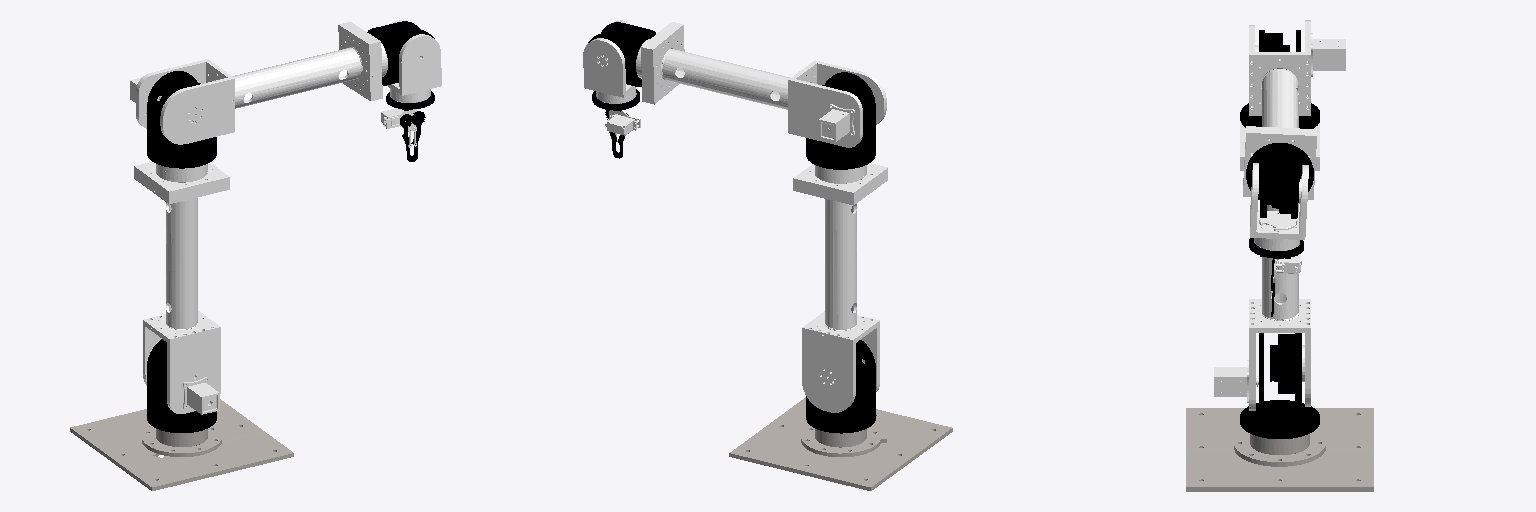
The robot description file, URDF, robot "final_7dof_urdf_9oct2024":
<?xml version="1.0" encoding="utf-8"?>
<!-- This URDF was automatically created by SolidWorks to URDF Exporter! Originally created by [author] ([email redacted]) 
     Commit Version: 1.6.0-4-g7f85cfe  Build Version: 1.6.7995.38578
     For more information, please see http://wiki.ros.org/sw_urdf_exporter -->
<robot
  name="final_7dof_urdf_9oct2024">
  <link
    name="base_link">
    <inertial>
      <origin
        xyz="0.00049737 0.00026123 0.0072038"
        rpy="0 0 0" />
      <mass
        value="6.9112" />
      <inertia
        ixx="0.046617"
        ixy="0.00010077"
        ixz="5.1488E-08"
        iyy="0.046482"
        iyz="-1.4461E-07"
        izz="0.092984" />
    </inertial>
    <visual>
      <origin
        xyz="0 0 0"
        rpy="0 0 0" />
      <geometry>
        <mesh
          filename="package://final_7dof_urdf_9oct2024/meshes/base_link.STL" />
      </geometry>
      <material
        name="">
        <color
          rgba="0.77647 0.75686 0.73725 1" />
      </material>
    </visual>
    <collision>
      <origin
        xyz="0 0 0"
        rpy="0 0 0" />
      <geometry>
        <mesh
          filename="package://final_7dof_urdf_9oct2024/meshes/base_link.STL" />
      </geometry>
    </collision>
  </link>
  <link
    name="Link_1">
    <inertial>
      <origin
        xyz="1.4551E-05 -0.0043711 0.069929"
        rpy="0 0 0" />
      <mass
        value="1.4053" />
      <inertia
        ixx="0.0017174"
        ixy="6.6784E-08"
        ixz="3.5551E-07"
        iyy="0.002626"
        iyz="6.0024E-06"
        izz="0.0017063" />
    </inertial>
    <visual>
      <origin
        xyz="0 0 0"
        rpy="0 0 0" />
      <geometry>
        <mesh
          filename="package://final_7dof_urdf_9oct2024/meshes/Link_1.STL" />
      </geometry>
      <material
        name="">
        <color
          rgba="0 0 0 1" />
      </material>
    </visual>
    <collision>
      <origin
        xyz="0 0 0"
        rpy="0 0 0" />
      <geometry>
        <mesh
          filename="package://final_7dof_urdf_9oct2024/meshes/Link_1.STL" />
      </geometry>
    </collision>
  </link>
  <joint
    name="joint_1"
    type="continuous">
    <origin
      xyz="0 0 0.05"
      rpy="0 0 3.1416" />
    <parent
      link="base_link" />
    <child
      link="Link_1" />
    <axis
      xyz="0 0 -1" />
    <limit
      lower="0"
      upper="3.14"
      effort="0"
      velocity="0" />
  </joint>
  <link
    name="Link_2">
    <inertial>
      <origin
        xyz="-6.5548E-05 0.21409 0.034291"
        rpy="0 0 0" />
      <mass
        value="3.4329" />
      <inertia
        ixx="0.0091312"
        ixy="-2.4753E-06"
        ixz="8.4256E-07"
        iyy="0.0057112"
        iyz="5.0607E-06"
        izz="0.0099035" />
    </inertial>
    <visual>
      <origin
        xyz="0 0 0"
        rpy="0 0 0" />
      <geometry>
        <mesh
          filename="package://final_7dof_urdf_9oct2024/meshes/Link_2.STL" />
      </geometry>
      <material
        name="">
        <color
          rgba="1 1 1 1" />
      </material>
    </visual>
    <collision>
      <origin
        xyz="0 0 0"
        rpy="0 0 0" />
      <geometry>
        <mesh
          filename="package://final_7dof_urdf_9oct2024/meshes/Link_2.STL" />
      </geometry>
    </collision>
  </link>
  <joint
    name="Joint_2"
    type="revolute">
    <origin
      xyz="0 -0.02999999999948 0.107500000000395"
      rpy="1.5707963267949 0 -3.14159265358979" />
    <parent
      link="Link_1" />
    <child
      link="Link_2" />
    <axis
      xyz="0 0 -1" />
    <limit
      lower="-1.9199"
      upper="1.9199"
      effort="0"
      velocity="0" />
  </joint>
  <link
    name="Link_3">
    <inertial>
      <origin
        xyz="-2.1655E-05 0.0044003 0.0672"
        rpy="0 0 0" />
      <mass
        value="1.3788" />
      <inertia
        ixx="0.0016215"
        ixy="-9.275E-08"
        ixz="2.8899E-07"
        iyy="0.0025027"
        iyz="-5.4475E-06"
        izz="0.0016785" />
    </inertial>
    <visual>
      <origin
        xyz="0 0 0"
        rpy="0 0 0" />
      <geometry>
        <mesh
          filename="package://final_7dof_urdf_9oct2024/meshes/Link_3.STL" />
      </geometry>
      <material
        name="">
        <color
          rgba="0 0 0 1" />
      </material>
    </visual>
    <collision>
      <origin
        xyz="0 0 0"
        rpy="0 0 0" />
      <geometry>
        <mesh
          filename="package://final_7dof_urdf_9oct2024/meshes/Link_3.STL" />
      </geometry>
    </collision>
  </link>
  <joint
    name="Joint_3"
    type="continuous">
    <origin
      xyz="0.000359289684152012 0.435033961918617 0.0294474762975983"
      rpy="1.57079632680726 0 3.14159265358979" />
    <parent
      link="Link_2" />
    <child
      link="Link_3" />
    <axis
      xyz="0 0 -1" />
    <limit
      lower="0"
      upper="3.14"
      effort="0"
      velocity="0" />
  </joint>
  <link
    name="Link_4">
    <inertial>
      <origin
        xyz="0.22054 0.00021752 -0.034312"
        rpy="0 0 0" />
      <mass
        value="3.5515" />
      <inertia
        ixx="0.0043885"
        ixy="2.6288E-06"
        ixz="-3.6827E-06"
        iyy="0.0083524"
        iyz="-3.8569E-06"
        izz="0.0091315" />
    </inertial>
    <visual>
      <origin
        xyz="0 0 0"
        rpy="0 0 0" />
      <geometry>
        <mesh
          filename="package://final_7dof_urdf_9oct2024/meshes/Link_4.STL" />
      </geometry>
      <material
        name="">
        <color
          rgba="1 1 1 1" />
      </material>
    </visual>
    <collision>
      <origin
        xyz="0 0 0"
        rpy="0 0 0" />
      <geometry>
        <mesh
          filename="package://final_7dof_urdf_9oct2024/meshes/Link_4.STL" />
      </geometry>
    </collision>
  </link>
  <joint
    name="joint_4"
    type="revolute">
    <origin
      xyz="0 0.0299999999999995 0.102500000000001"
      rpy="1.5707963267949 0 3.14159265358979" />
    <parent
      link="Link_3" />
    <child
      link="Link_4" />
    <axis
      xyz="0 0 1" />
    <limit
      lower="-0.2618"
      upper="3.4907"
      effort="0"
      velocity="0" />
  </joint>
  <link
    name="Link_5">
    <inertial>
      <origin
        xyz="0.0058409 -0.0002627 0.054755"
        rpy="0 0 0" />
      <mass
        value="1.4559" />
      <inertia
        ixx="0.0013388"
        ixy="-2.389E-05"
        ixz="-1.7038E-06"
        iyy="0.00084376"
        iyz="-2.3795E-07"
        izz="0.0009966" />
    </inertial>
    <visual>
      <origin
        xyz="0 0 0"
        rpy="0 0 0" />
      <geometry>
        <mesh
          filename="package://final_7dof_urdf_9oct2024/meshes/Link_5.STL" />
      </geometry>
      <material
        name="">
        <color
          rgba="0 0 0 1" />
      </material>
    </visual>
    <collision>
      <origin
        xyz="0 0 0"
        rpy="0 0 0" />
      <geometry>
        <mesh
          filename="package://final_7dof_urdf_9oct2024/meshes/Link_5.STL" />
      </geometry>
    </collision>
  </link>
  <joint
    name="joint_5"
    type="continuous">
    <origin
      xyz="0.419299903678905 0 -0.0294999999999992"
      rpy="0 1.5707963267949 0" />
    <parent
      link="Link_4" />
    <child
      link="Link_5" />
    <axis
      xyz="0 0 -1" />
    <limit
      lower="0"
      upper="3.14"
      effort="0"
      velocity="0" />
  </joint>
  <link
    name="link_6">
    <inertial>
      <origin
        xyz="0.00011175 -0.056394 -0.023876"
        rpy="0 0 0" />
      <mass
        value="1.4077" />
      <inertia
        ixx="0.00078211"
        ixy="-9.9306E-07"
        ixz="3.1036E-06"
        iyy="0.0010474"
        iyz="1.657E-06"
        izz="0.00099212" />
    </inertial>
    <visual>
      <origin
        xyz="0 0 0"
        rpy="0 0 0" />
      <geometry>
        <mesh
          filename="package://final_7dof_urdf_9oct2024/meshes/link_6.STL" />
      </geometry>
      <material
        name="">
        <color
          rgba="1 1 1 1" />
      </material>
    </visual>
    <collision>
      <origin
        xyz="0 0 0"
        rpy="0 0 0" />
      <geometry>
        <mesh
          filename="package://final_7dof_urdf_9oct2024/meshes/link_6.STL" />
      </geometry>
    </collision>
  </link>
  <joint
    name="joint_6"
    type="revolute">
    <origin
      xyz="0.0239691789943203 -0.00121612576549357 0.0675000000000011"
      rpy="0.0506935943659278 1.5707963267949 0" />
    <parent
      link="Link_5" />
    <child
      link="link_6" />
    <axis
      xyz="0 0 1" />
    <limit
      lower="-3.14"
      upper="0"
      effort="0"
      velocity="0" />
  </joint>
  <link
    name="Link_7">
    <inertial>
      <origin
        xyz="8.2711E-06 3.9121E-07 0.0087604"
        rpy="0 0 0" />
      <mass
        value="0.18439" />
      <inertia
        ixx="8.0523E-05"
        ixy="-8.9234E-11"
        ixz="-4.712E-11"
        iyy="8.0525E-05"
        iyz="-2.2287E-12"
        izz="0.00015908" />
    </inertial>
    <visual>
      <origin
        xyz="0 0 0"
        rpy="0 0 0" />
      <geometry>
        <mesh
          filename="package://final_7dof_urdf_9oct2024/meshes/Link_7.STL" />
      </geometry>
      <material
        name="">
        <color
          rgba="0 0 0 1" />
      </material>
    </visual>
    <collision>
      <origin
        xyz="0 0 0"
        rpy="0 0 0" />
      <geometry>
        <mesh
          filename="package://final_7dof_urdf_9oct2024/meshes/Link_7.STL" />
      </geometry>
    </collision>
  </link>
  <joint
    name="Joint_7"
    type="continuous">
    <origin
      xyz="0 -0.0909999036788988 -0.0244999999999991"
      rpy="-1.5707963267949 0 3.14159265358979" />
    <parent
      link="link_6" />
    <child
      link="Link_7" />
    <axis
      xyz="0 0 -1" />
    <limit
      lower="0"
      upper="3.14"
      effort="0"
      velocity="0" />
  </joint>
  <link
    name="endeffector">
    <inertial>
      <origin
        xyz="-0.0198 -0.019334 0.047383"
        rpy="0 0 0" />
      <mass
        value="0.10291" />
      <inertia
        ixx="1.41E-05"
        ixy="-4.3343E-07"
        ixz="-9.812E-08"
        iyy="2.056E-05"
        iyz="-4.6453E-09"
        izz="2.527E-05" />
    </inertial>
    <visual>
      <origin
        xyz="0 0 0"
        rpy="0 0 0" />
      <geometry>
        <mesh
          filename="package://final_7dof_urdf_9oct2024/meshes/endeffector.STL" />
      </geometry>
      <material
        name="">
        <color
          rgba="1 1 1 1" />
      </material>
    </visual>
    <collision>
      <origin
        xyz="0 0 0"
        rpy="0 0 0" />
      <geometry>
        <mesh
          filename="package://final_7dof_urdf_9oct2024/meshes/endeffector.STL" />
      </geometry>
    </collision>
  </link>
  <joint
    name="endeffector"
    type="fixed">
    <origin
      xyz="0 0 0"
      rpy="0 0 0" />
    <parent
      link="Link_7" />
    <child
      link="endeffector" />
    <axis
      xyz="0 0 0" />
  </joint>
  <link
    name="gear1">
    <inertial>
      <origin
        xyz="0.00049542 -0.0057094 0.0018167"
        rpy="0 0 0" />
      <mass
        value="0.0053" />
      <inertia
        ixx="7.5591E-07"
        ixy="-2.1833E-08"
        ixz="-6.9871E-09"
        iyy="1.8107E-07"
        iyz="3.6804E-08"
        izz="9.2464E-07" />
    </inertial>
    <visual>
      <origin
        xyz="0 0 0"
        rpy="0 0 0" />
      <geometry>
        <mesh
          filename="package://final_7dof_urdf_9oct2024/meshes/gear1.STL" />
      </geometry>
      <material
        name="">
        <color
          rgba="0 0 0 1" />
      </material>
    </visual>
    <collision>
      <origin
        xyz="0 0 0"
        rpy="0 0 0" />
      <geometry>
        <mesh
          filename="package://final_7dof_urdf_9oct2024/meshes/gear1.STL" />
      </geometry>
    </collision>
  </link>
  <joint
    name="gear1_joint"
    type="revolute">
    <origin
      xyz="-0.0136030394768413 0.00185938617586617 0.0481789689084899"
      rpy="-1.52010273242897 0 0" />
    <parent
      link="endeffector" />
    <child
      link="gear1" />
    <axis
      xyz="-0.0472460759822869 0.0506152984712181 0.997600070100712" />
    <limit
      lower="-0.9"
      upper="0"
      effort="0"
      velocity="0" />
  </joint>
  <link
    name="gear1_claw">
    <inertial>
      <origin
        xyz="0.0054214 -0.023631 -0.0030551"
        rpy="0 0 0" />
      <mass
        value="0.0039374" />
      <inertia
        ixx="1.2119E-06"
        ixy="1.6298E-07"
        ixz="-1.0864E-08"
        iyy="6.47E-08"
        iyz="6.8703E-08"
        izz="1.2627E-06" />
    </inertial>
    <visual>
      <origin
        xyz="0 0 0"
        rpy="0 0 0" />
      <geometry>
        <mesh
          filename="package://final_7dof_urdf_9oct2024/meshes/gear1_claw.STL" />
      </geometry>
      <material
        name="">
        <color
          rgba="0 0 0 1" />
      </material>
    </visual>
    <collision>
      <origin
        xyz="0 0 0"
        rpy="0 0 0" />
      <geometry>
        <mesh
          filename="package://final_7dof_urdf_9oct2024/meshes/gear1_claw.STL" />
      </geometry>
    </collision>
  </link>
  <joint
    name="claw_joint1"
    type="revolute">
    <origin
      xyz="-0.000267699277291311 -0.0308336350288896 0.00405774420117622"
      rpy="0 0 0" />
    <parent
      link="gear1" />
    <child
      link="gear1_claw" />
    <axis
      xyz="-0.0472460759822531 0.0506152984712519 0.997600070100712" />
    <limit
      lower="0"
      upper="0.9"
      effort="0"
      velocity="0" />
    <mimic
      joint="base_claw_joint1"
      multiplier="1"
      offset="0" />
  </joint>
  <link
    name="gear2_link">
    <inertial>
      <origin
        xyz="0.00014723 -0.0053735 -0.001224"
        rpy="0 0 0" />
      <mass
        value="0.0057636" />
      <inertia
        ixx="8.0509E-07"
        ixy="7.9758E-09"
        ixz="-1.0182E-08"
        iyy="2.1764E-07"
        iyz="4.0658E-08"
        izz="1.009E-06" />
    </inertial>
    <visual>
      <origin
        xyz="0 0 0"
        rpy="0 0 0" />
      <geometry>
        <mesh
          filename="package://final_7dof_urdf_9oct2024/meshes/gear2_link.STL" />
      </geometry>
      <material
        name="">
        <color
          rgba="0 0 0 1" />
      </material>
    </visual>
    <collision>
      <origin
        xyz="0 0 0"
        rpy="0 0 0" />
      <geometry>
        <mesh
          filename="package://final_7dof_urdf_9oct2024/meshes/gear2_link.STL" />
      </geometry>
    </collision>
  </link>
  <joint
    name="gear2_joint"
    type="revolute">
    <origin
      xyz="0.013248693908315 0.0056322384288611 0.0481789689082828"
      rpy="-1.52010273242897 0 0" />
    <parent
      link="endeffector" />
    <child
      link="gear2_link" />
    <axis
      xyz="-0.0472460759822667 0.0506152984712492 0.997600070100711" />
    <limit
      lower="0"
      upper="0.9"
      effort="0"
      velocity="0" />
    <mimic
      joint="gear1_joint"
      multiplier="-1"
      offset="0" />
  </joint>
  <link
    name="gear2_claw">
    <inertial>
      <origin
        xyz="-0.0049965 -0.023656 -0.0035472"
        rpy="0 0 0" />
      <mass
        value="0.0039374" />
      <inertia
        ixx="1.2119E-06"
        ixy="-1.6326E-07"
        ixz="5.6881E-09"
        iyy="6.3141E-08"
        iyz="5.3332E-08"
        izz="1.2642E-06" />
    </inertial>
    <visual>
      <origin
        xyz="0 0 0"
        rpy="0 0 0" />
      <geometry>
        <mesh
          filename="package://final_7dof_urdf_9oct2024/meshes/gear2_claw.STL" />
      </geometry>
      <material
        name="">
        <color
          rgba="0 0 0 1" />
      </material>
    </visual>
    <collision>
      <origin
        xyz="0 0 0"
        rpy="0 0 0" />
      <geometry>
        <mesh
          filename="package://final_7dof_urdf_9oct2024/meshes/gear2_claw.STL" />
      </geometry>
    </collision>
  </link>
  <joint
    name="claw_joint2"
    type="revolute">
    <origin
      xyz="0.000446202525255179 -0.0309558921236726 0.00159174310957538"
      rpy="0 0 0" />
    <parent
      link="gear2_link" />
    <child
      link="gear2_claw" />
    <axis
      xyz="-0.0472460759823001 0.050615298471215 0.997600070100712" />
    <limit
      lower="-0.9"
      upper="0"
      effort="0"
      velocity="0" />
    <mimic
      joint="base_claw_joint2"
      multiplier="-1"
      offset="0" />
  </joint>
  <link
    name="base_claw_link2">
    <inertial>
      <origin
        xyz="0.00030048 -0.015554 -0.00070023"
        rpy="0 0 0" />
      <mass
        value="0.0011042" />
      <inertia
        ixx="1.5464E-07"
        ixy="2.238E-09"
        ixz="-1.8519E-10"
        iyy="3.5683E-09"
        iyz="7.8475E-09"
        izz="1.5574E-07" />
    </inertial>
    <visual>
      <origin
        xyz="0 0 0"
        rpy="0 0 0" />
      <geometry>
        <mesh
          filename="package://final_7dof_urdf_9oct2024/meshes/base_claw_link2.STL" />
      </geometry>
      <material
        name="">
        <color
          rgba="1 1 1 1" />
      </material>
    </visual>
    <collision>
      <origin
        xyz="0 0 0"
        rpy="0 0 0" />
      <geometry>
        <mesh
          filename="package://final_7dof_urdf_9oct2024/meshes/base_claw_link2.STL" />
      </geometry>
    </collision>
  </link>
  <joint
    name="base_claw_joint2"
    type="revolute">
    <origin
      xyz="0.00500790684313079 0.00524245830200445 0.0685789689082188"
      rpy="-1.52010273242897 0 0" />
    <parent
      link="Link_7" />
    <child
      link="base_claw_link2" />
    <axis
      xyz="-0.0472460759822792 0.0506152984712578 0.99760007010071" />
    <limit
      lower="0"
      upper="0.9"
      effort="0"
      velocity="0" />
    <mimic
      joint="gear1_joint"
      multiplier="-1"
      offset="0" />
  </joint>
  <link
    name="base_claw_link1">
    <inertial>
      <origin
        xyz="-1.058E-05 -0.015556 -0.00071484"
        rpy="0 0 0" />
      <mass
        value="0.0011042" />
      <inertia
        ixx="1.5467E-07"
        ixy="-7.9881E-10"
        ixz="-2.9739E-11"
        iyy="3.5247E-09"
        iyz="7.7059E-09"
        izz="1.5576E-07" />
    </inertial>
    <visual>
      <origin
        xyz="0 0 0"
        rpy="0 0 0" />
      <geometry>
        <mesh
          filename="package://final_7dof_urdf_9oct2024/meshes/base_claw_link1.STL" />
      </geometry>
      <material
        name="">
        <color
          rgba="1 1 1 1" />
      </material>
    </visual>
    <collision>
      <origin
        xyz="0 0 0"
        rpy="0 0 0" />
      <geometry>
        <mesh
          filename="package://final_7dof_urdf_9oct2024/meshes/base_claw_link1.STL" />
      </geometry>
    </collision>
  </link>
  <joint
    name="base_claw_joint1"
    type="revolute">
    <origin
      xyz="-0.00548036760308535 0.0047463745042049 0.0685789689085226"
      rpy="-1.52010273242897 0 0" />
    <parent
      link="Link_7" />
    <child
      link="base_claw_link1" />
    <axis
      xyz="0.0472460759822863 -0.0506152984712078 -0.997600070100712" />
    <limit
      lower="0"
      upper="0.9"
      effort="0"
      velocity="0" />
    <mimic
      joint="gear1_joint"
      multiplier="-1"
      offset="0" />
  </joint>
</robot>

--- What the picture shows (computed from the rendered views, not written in the file) ---
Views: 3 orthographic renders of the robot side by side, from view 1: azimuth 30°, elevation 25°; view 2: azimuth 150°, elevation 25°; view 3: azimuth 270°, elevation 25°.
Model final_7dof_urdf_9oct2024 with 15 links and 14 joints (9 revolute, 4 continuous, 1 fixed), rooted at base_link, posed every joint at zero.
Visible links, largest first — view 1: Link_2, Link_4, base_link, Link_3, link_6, Link_1, Link_5; view 2: Link_2, Link_4, base_link, Link_3, Link_1, link_6, Link_5, endeffector; view 3: base_link, Link_4, Link_2, Link_1, Link_5, link_6, Link_3.
Boxes of the visible links, x1,y1,x2,y2 form: Link_2: (134,162,229,414); Link_4: (130,22,387,144); base_link: (70,399,293,490); Link_3: (147,71,216,168); link_6: (387,20,441,102); Link_1: (147,339,216,432); Link_5: (367,21,434,85); Link_2: (793,163,887,412); Link_4: (636,22,886,147); base_link: (729,397,952,490); Link_3: (806,72,875,169); Link_1: (806,340,875,433); link_6: (583,20,636,103); Link_5: (588,22,655,86); endeffector: (605,110,640,135); base_link: (1186,408,1373,491); Link_4: (1243,20,1345,199); Link_2: (1214,123,1319,410); Link_1: (1240,333,1319,438); Link_5: (1246,143,1313,218); link_6: (1250,163,1308,250); Link_3: (1240,30,1319,128).
Size in the robot's own frame: 0.6846 by 0.3048 by 0.7554 metres.
Meshes: 15 distinct files referenced, 15 mesh visuals loaded (15 binary STL).